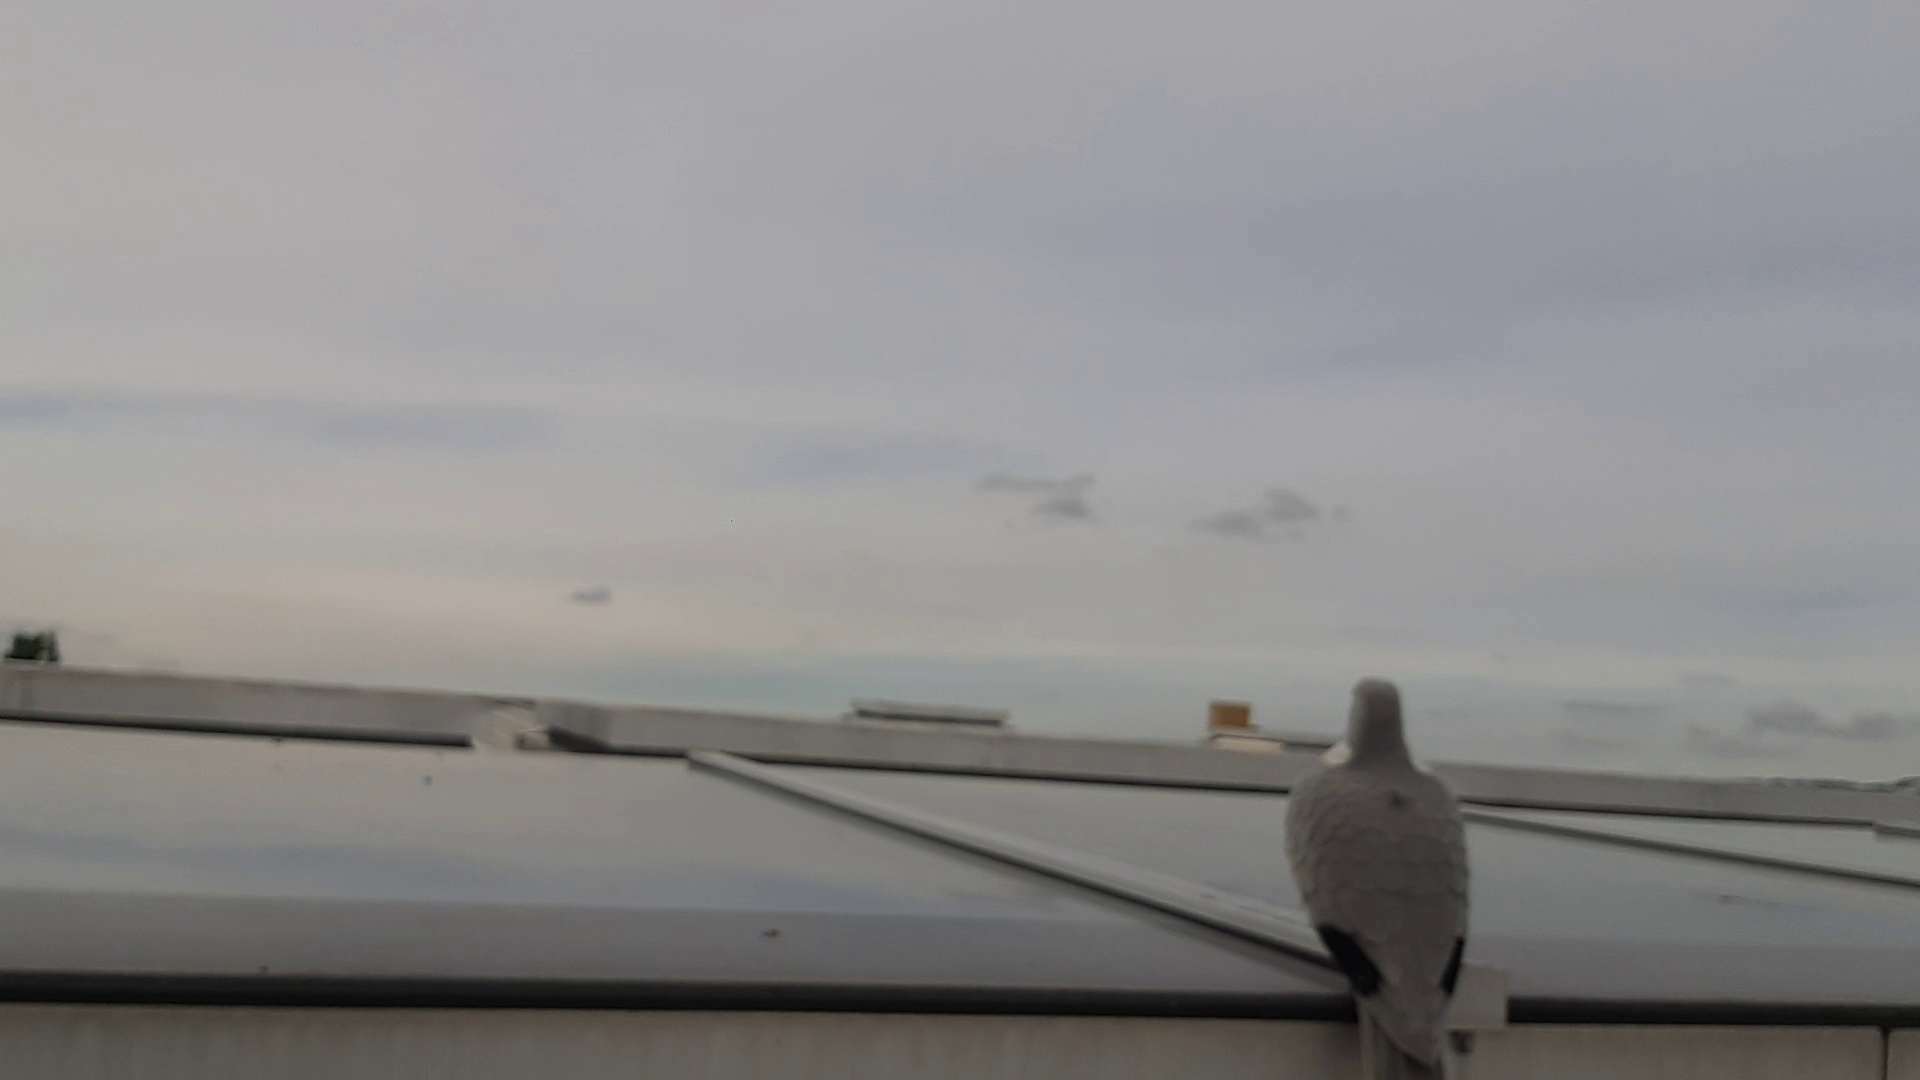Pigeon: (1279, 653, 1490, 1080)
